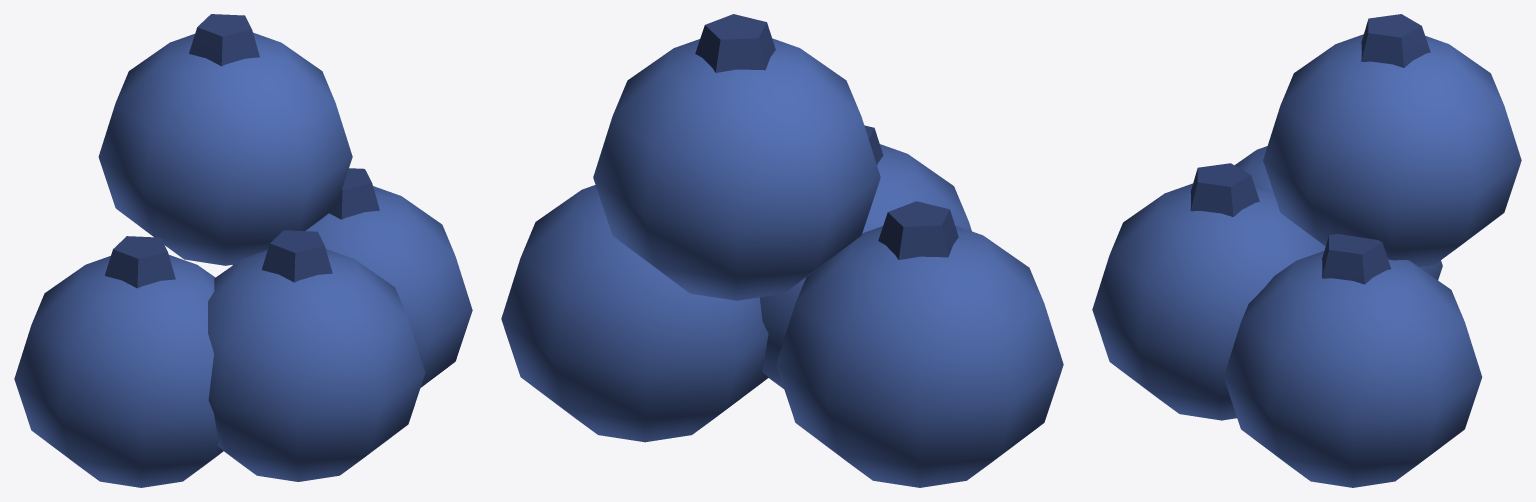
The model's file is fruit_blueberry.glb.
3 renders of one model, left to right at view 1: azimuth 30°, elevation 25°; view 2: azimuth 150°, elevation 25°; view 3: azimuth 270°, elevation 25°, orthographic. The views are drawn at different scales.
Parts seen in each view (by area): view 1: fruit_blueberry; view 2: fruit_blueberry; view 3: fruit_blueberry.
Boxes of the visible parts, left/top/right/bottom form: fruit_blueberry: left=14, top=14, right=472, bottom=487; fruit_blueberry: left=501, top=14, right=1063, bottom=487; fruit_blueberry: left=1092, top=14, right=1521, bottom=487.
Bounding box in the file's own units: 0.0788 × 0.067 × 0.0654.
